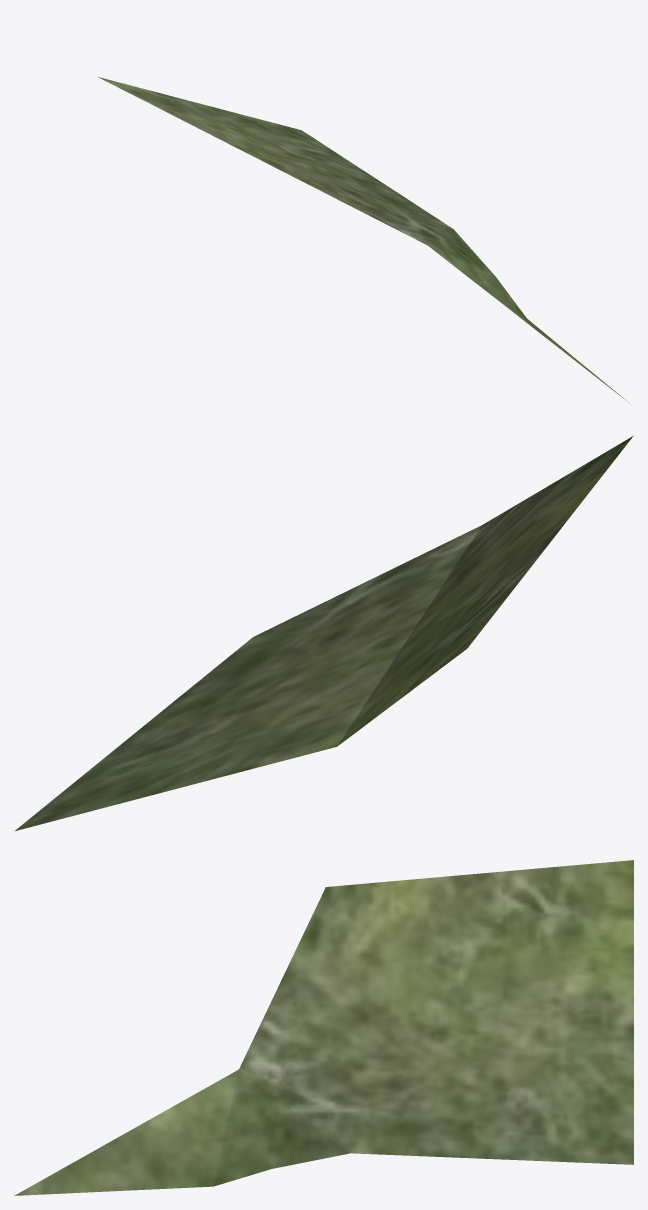
3 renders of one model, top to bottom at view 1: azimuth 30°, elevation 25°; view 2: azimuth 150°, elevation 25°; view 3: azimuth 270°, elevation 25°, orthographic. The views are drawn at different scales.
Size of the model in its own units: 0.8096 by 0.5902 by 1.62.
1 material, 1 textured.
